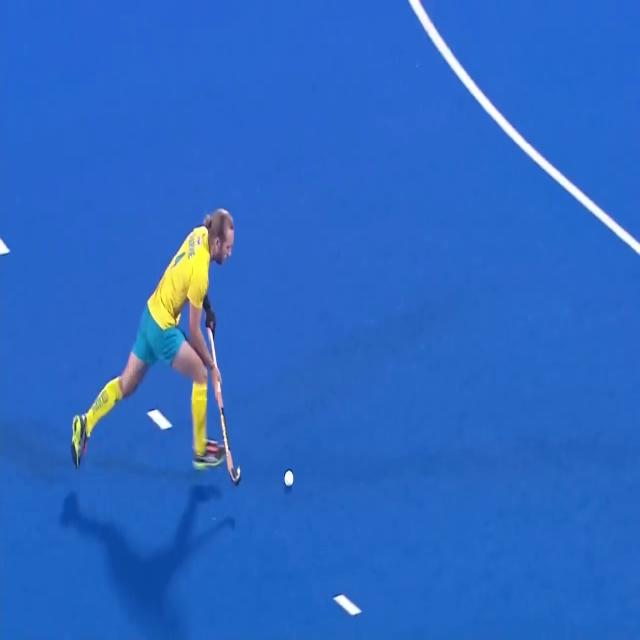ball: (278, 461, 310, 502)
